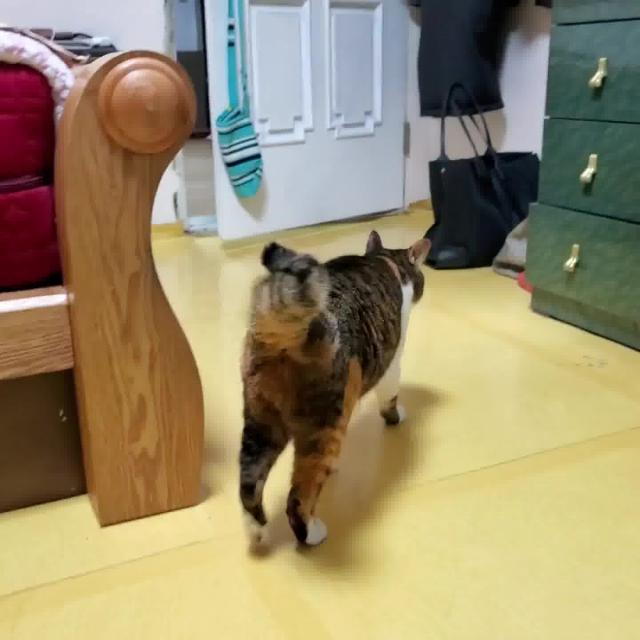cat: (235, 230, 439, 553)
